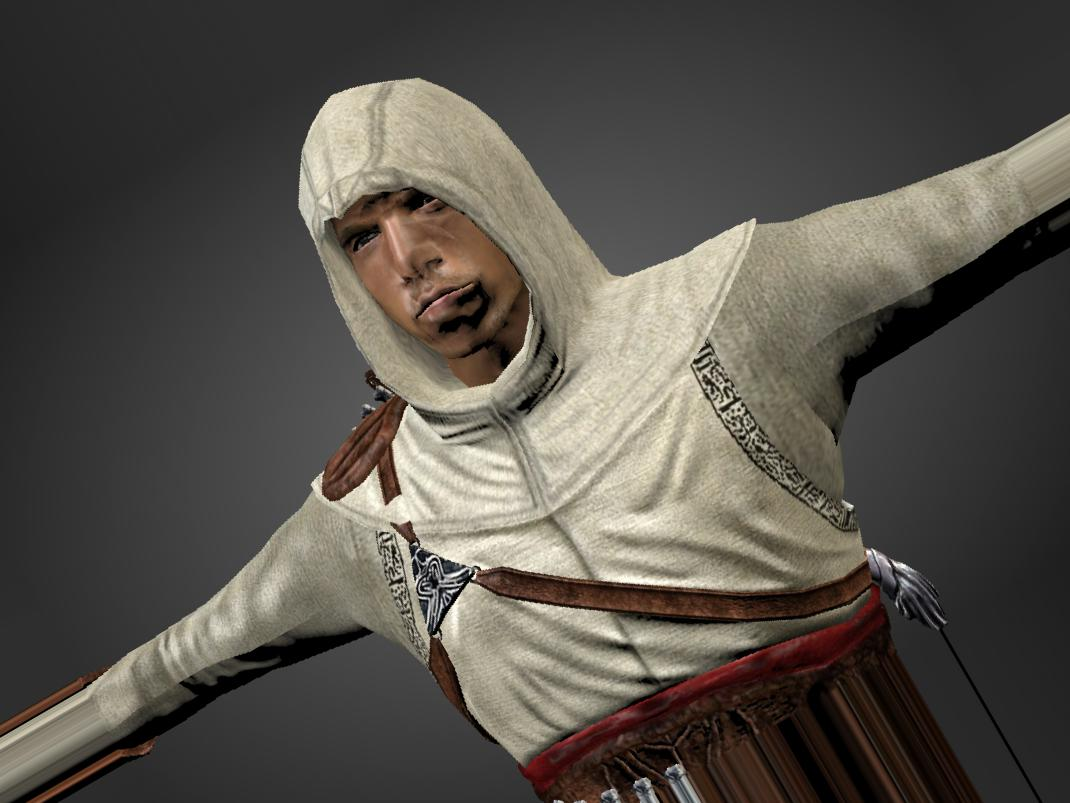clip: (372, 492, 427, 529)
